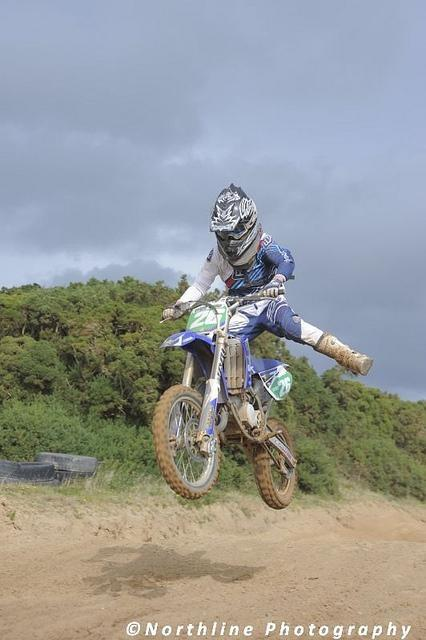motorcycle: (149, 288, 305, 504)
